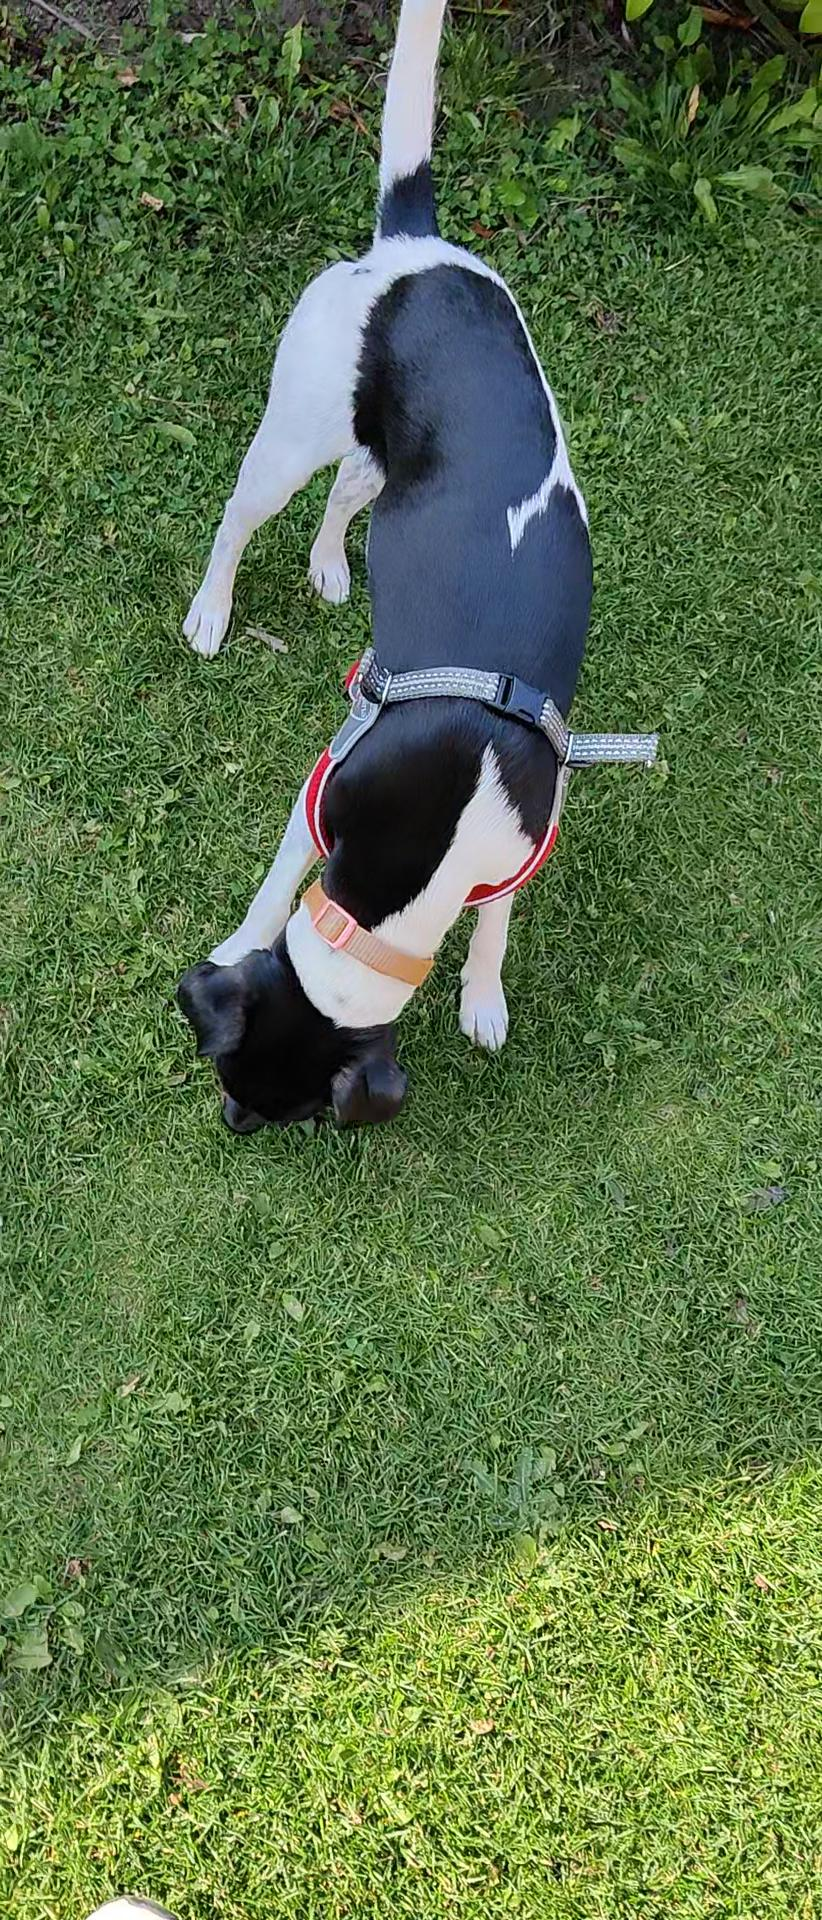Dog: (120, 0, 677, 1178)
